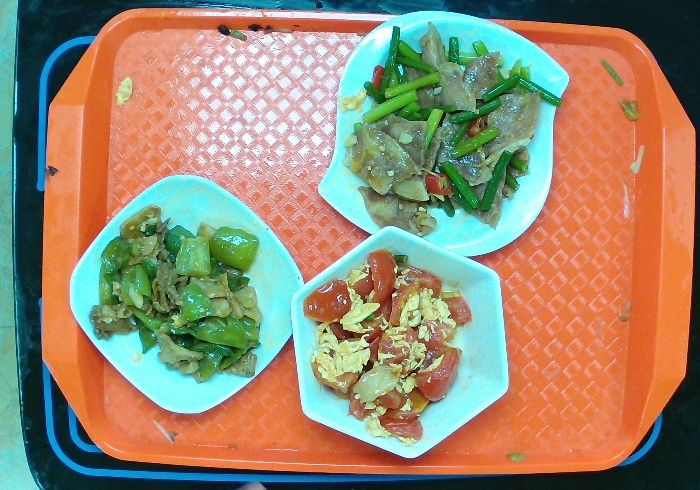RJxy-Liu_Jiao_Wan: (289, 224, 511, 461)
RJxy-Shuang_Jiao_Pan: (316, 9, 570, 258)
RJxy-Si_Fang_Wan: (68, 172, 305, 416)
